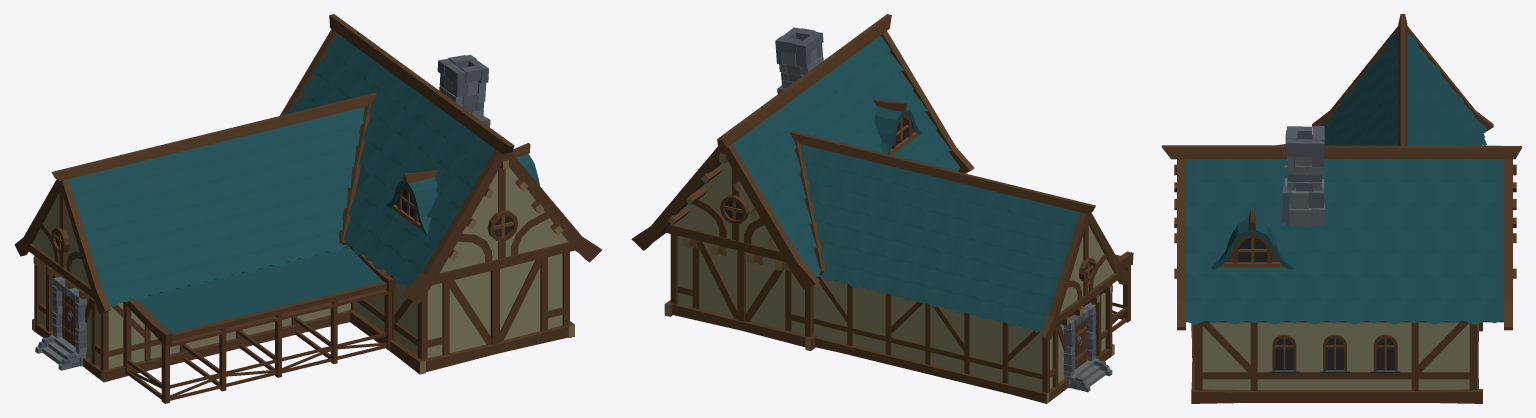
File: stable.glb
3 views of the same model, side by side, from view 1: azimuth 30°, elevation 25°; view 2: azimuth 150°, elevation 25°; view 3: azimuth 270°, elevation 25° (orthographic). The views are drawn at different scales.
Parts seen in each view (by area): view 1: Stable; view 2: Stable; view 3: Stable.
Part boxes in pixels (box(x1,y1,x2,y2)): Stable: box(14, 14, 601, 403); Stable: box(631, 14, 1133, 403); Stable: box(1162, 14, 1521, 403).
Bounding box in the file's own units: 4.7 × 2.49 × 3.33.
